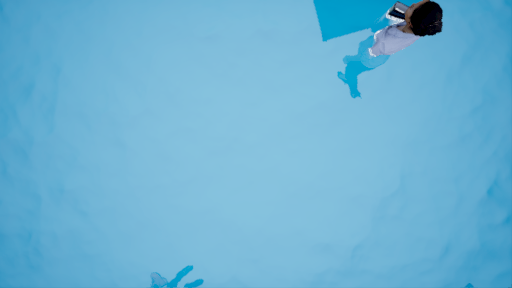person: (347, 5, 446, 118)
